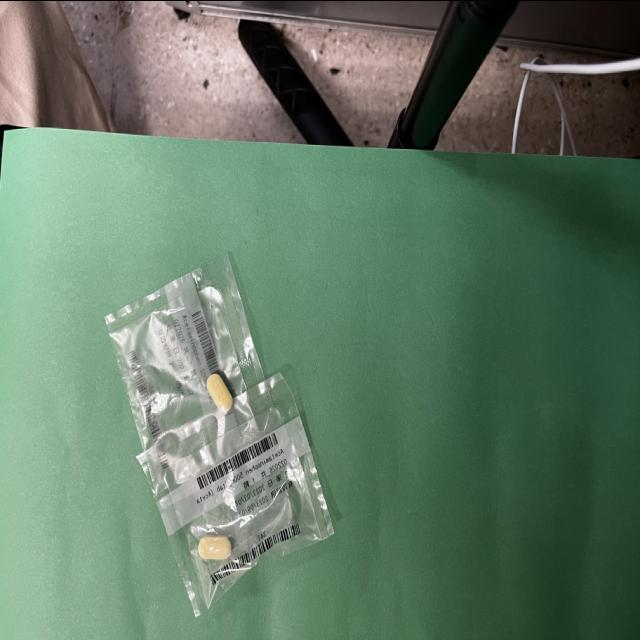Other Objects: (106, 253, 334, 615)
